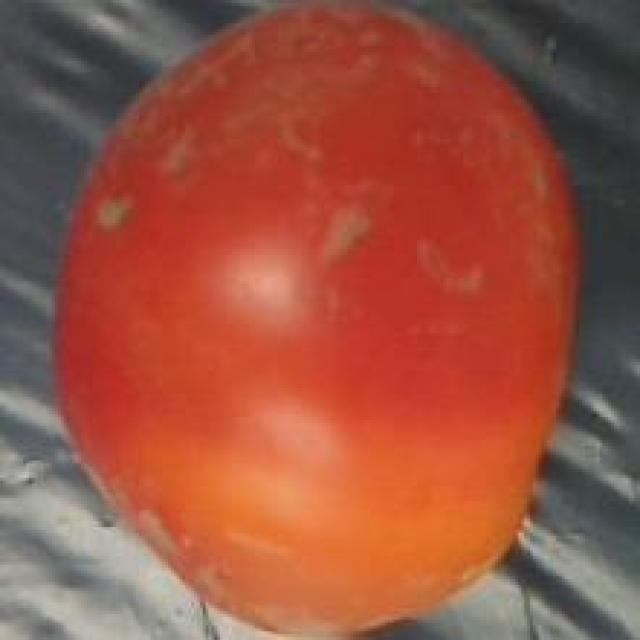overripe tomato: (41, 0, 590, 640)
